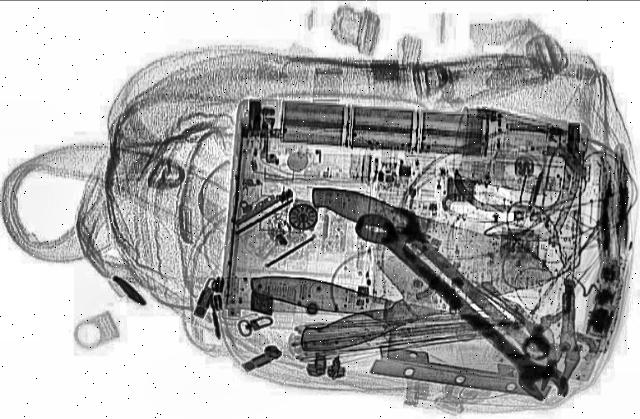Knife: (260, 219, 568, 357), (229, 268, 579, 386), (296, 175, 566, 279)
Wrench: (346, 206, 578, 404)
